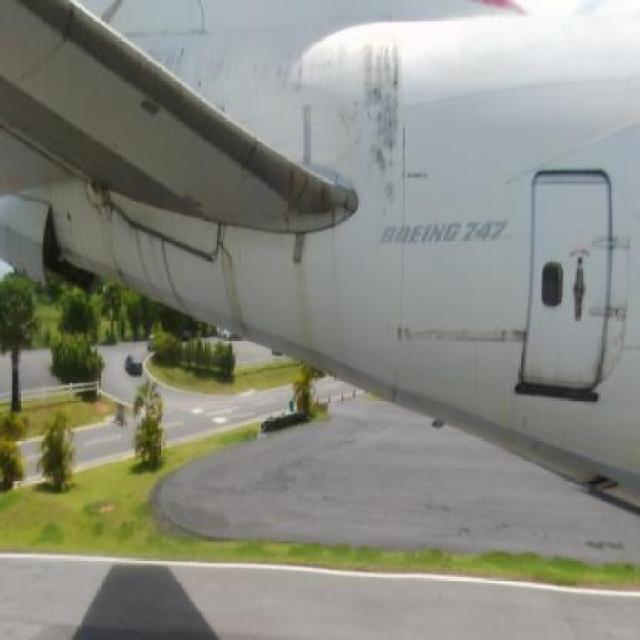Rust: (215, 239, 258, 339), (290, 246, 318, 359)
Scartch: (348, 34, 422, 197), (408, 312, 540, 354)
